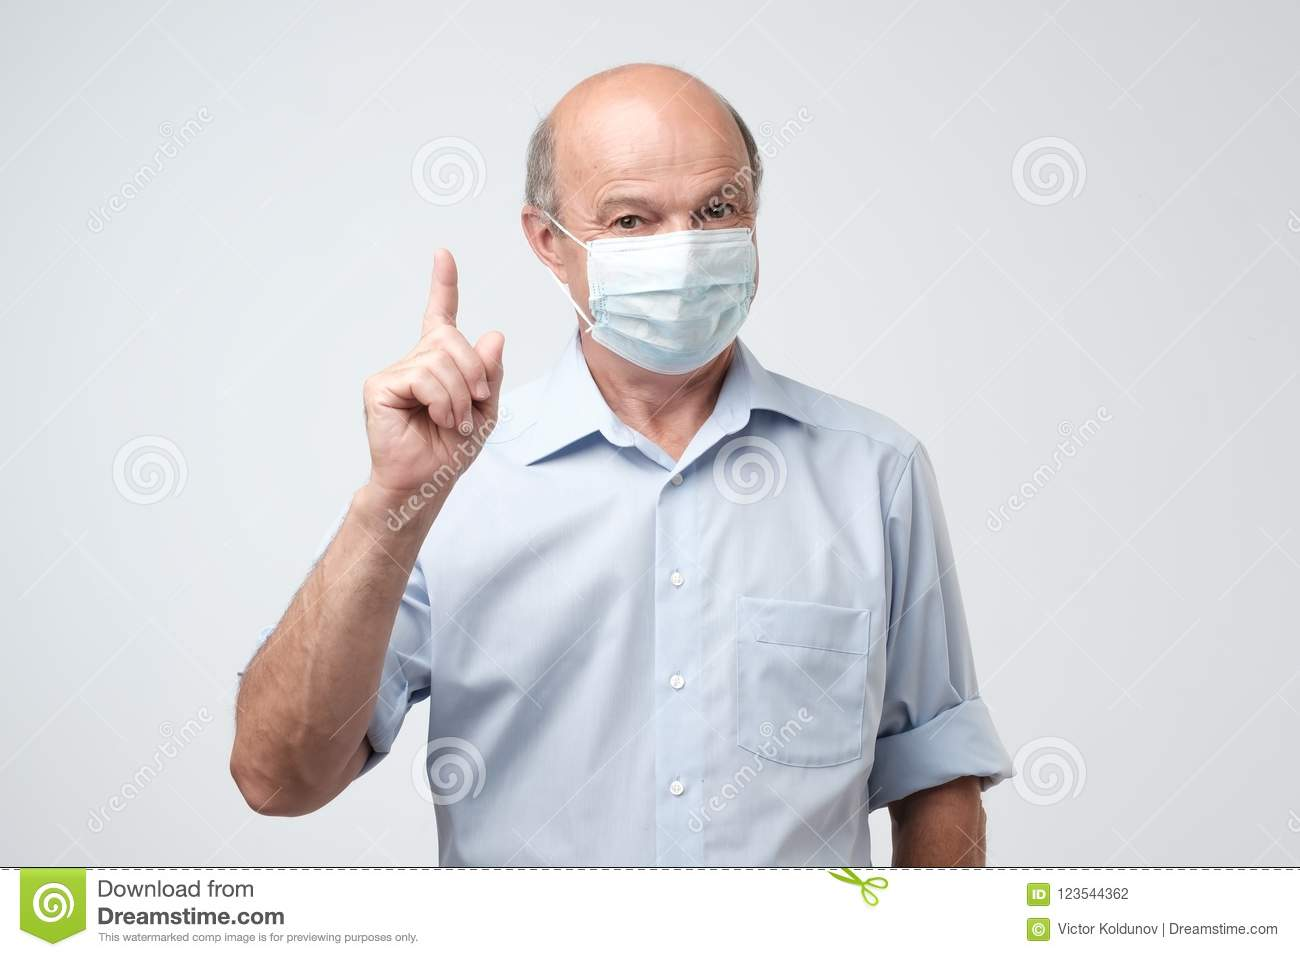mask: (582, 233, 757, 377)
